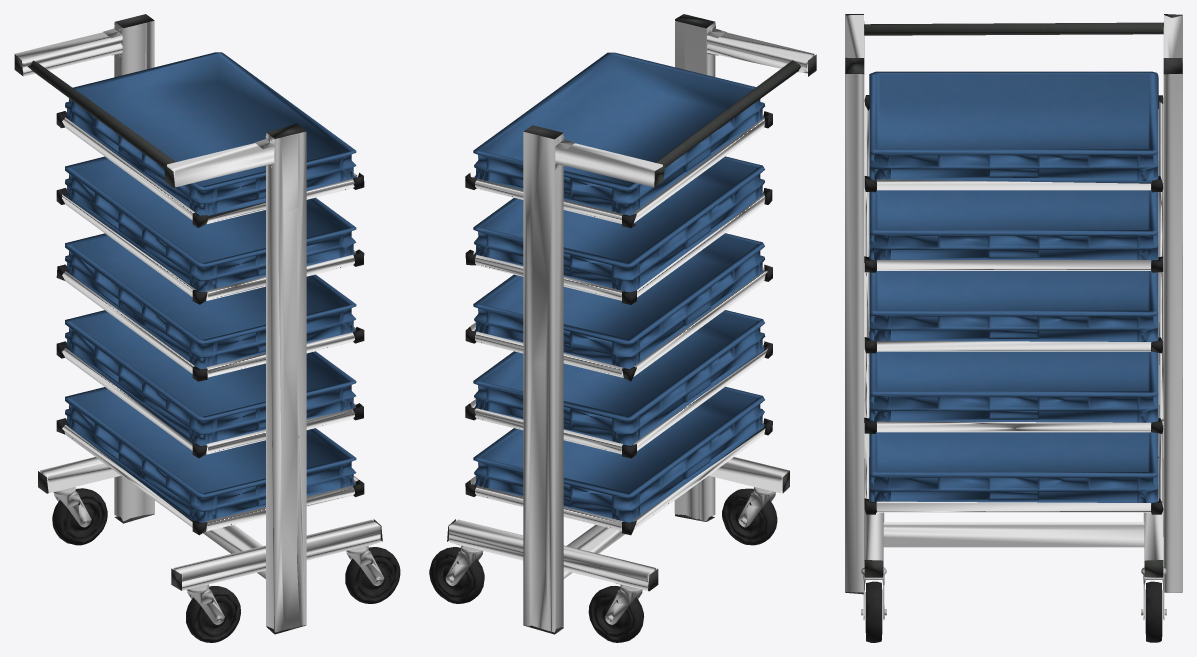
File: bins.glb
3 renders of one model, left to right at view 1: azimuth 30°, elevation 25°; view 2: azimuth 150°, elevation 25°; view 3: azimuth 270°, elevation 25°, orthographic. The views are drawn at different scales.
Parts seen in each view (by area): view 1: box_01_mesh_00, body_01_mesh_00, rim_01_mesh_00, wheel_01_mesh_00, wheel_03_mesh_00; view 2: box_01_mesh_00, body_01_mesh_00, rim_01_mesh_00, wheel_01_mesh_00, wheel_03_mesh_00; view 3: box_01_mesh_00, body_01_mesh_00, rim_01_mesh_00, wheel_01_mesh_00.
Part boxes in pixels (box(x1,y1,x2,y2)): box_01_mesh_00: box(65, 52, 356, 522); body_01_mesh_00: box(14, 14, 382, 634); rim_01_mesh_00: box(52, 111, 400, 642); wheel_01_mesh_00: box(103, 28, 384, 624); wheel_03_mesh_00: box(53, 487, 91, 527); box_01_mesh_00: box(473, 52, 765, 522); body_01_mesh_00: box(447, 14, 816, 634); rim_01_mesh_00: box(429, 111, 777, 642); wheel_01_mesh_00: box(445, 23, 775, 588); wheel_03_mesh_00: box(605, 585, 642, 624); box_01_mesh_00: box(869, 71, 1158, 505); body_01_mesh_00: box(845, 14, 1182, 594); rim_01_mesh_00: box(864, 95, 1163, 642); wheel_01_mesh_00: box(861, 513, 1166, 619).
Size of the model in its own units: 0.5982 by 1.2 by 0.7.
Materials: 6 (5 with a texture image).
